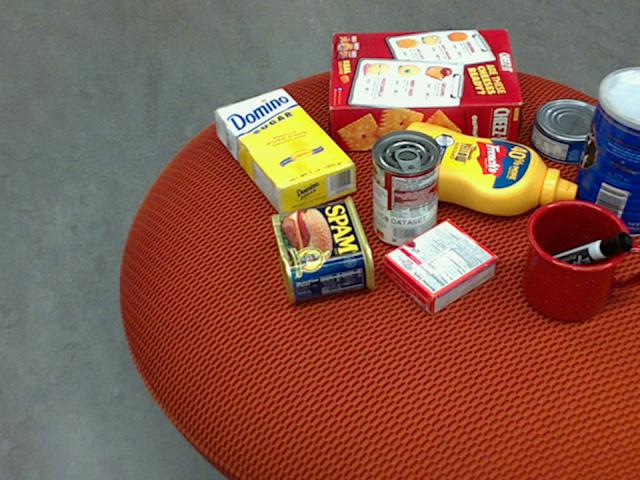cracker_box: (328, 28, 521, 150)
gelatin_box: (381, 220, 497, 316)
large_marker: (528, 230, 633, 280)
master_chef_can: (569, 67, 639, 237)
mug: (522, 199, 639, 322)
mustard_bottle: (388, 121, 576, 215)
potted_meat_can: (269, 194, 375, 303)
sugar_box: (213, 86, 356, 218)
tomato_soup_can: (370, 128, 440, 247)
tuna_fish_can: (529, 98, 608, 163)
